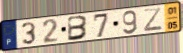2: (41, 18, 60, 45)
3: (21, 21, 37, 46)
7: (92, 13, 110, 38)
9: (122, 9, 138, 36)
B: (67, 15, 89, 43)
Z: (142, 7, 164, 33)
